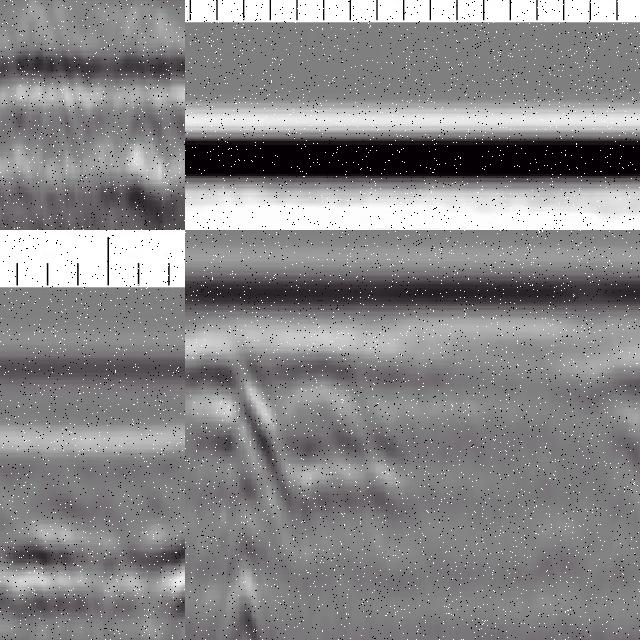crack: (203, 320, 261, 640)
loose: (267, 352, 403, 557), (1, 510, 186, 627), (1, 1, 63, 181), (128, 40, 186, 171)
